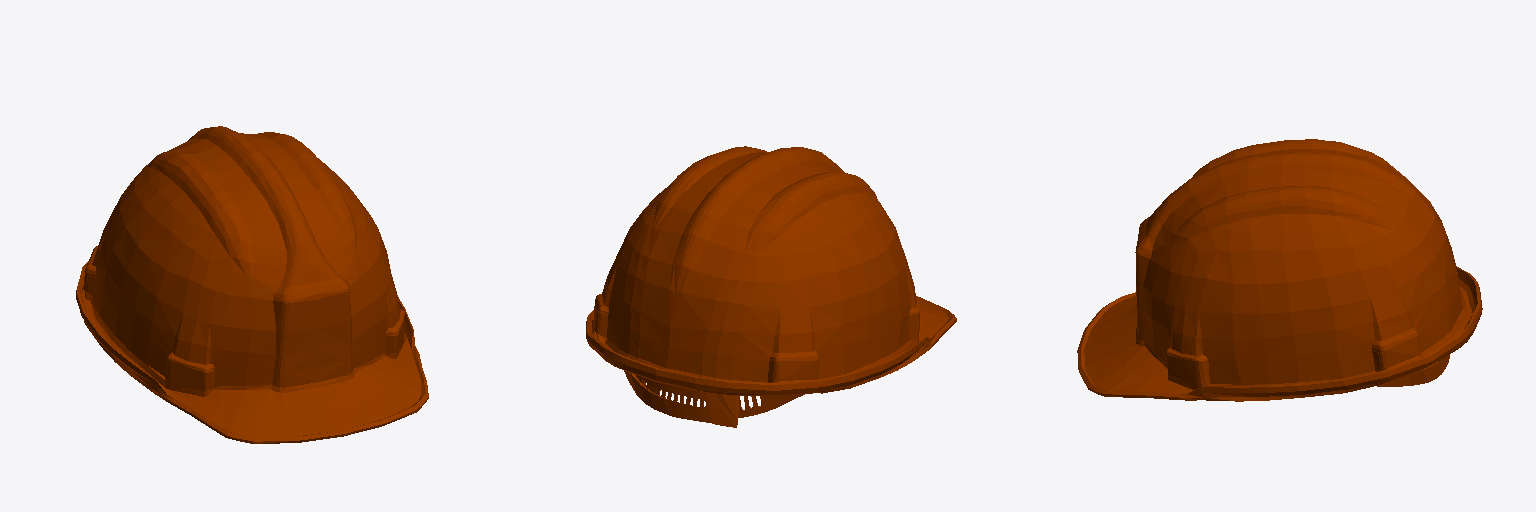
3 views of the same model, side by side, from view 1: azimuth 30°, elevation 25°; view 2: azimuth 150°, elevation 25°; view 3: azimuth 270°, elevation 25° (orthographic).
Parts seen in each view (by area): view 1: 安全帽; view 2: 安全帽; view 3: 安全帽.
Part boxes in pixels (x1,y1,x2,y2): 安全帽: (76, 126, 428, 443); 安全帽: (586, 146, 956, 427); 安全帽: (1077, 139, 1482, 401).
Size of the model in its own units: 1.13 by 0.8119 by 1.44.